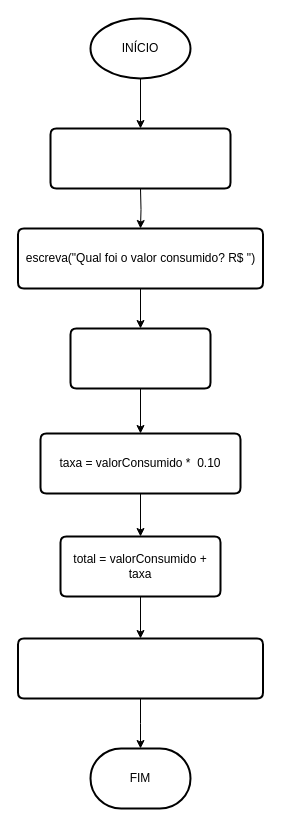
Some shapes in this 281 by 826 pixel diagram are drawn without their labels. The centre of each missing label's shape, as x and y in pixels:
escreva("O valor total da compra é: R$ ", total): [140,668]
leia (valorConsumido): [140,358]
real valorConsumido, taxa, total: [140,158]
